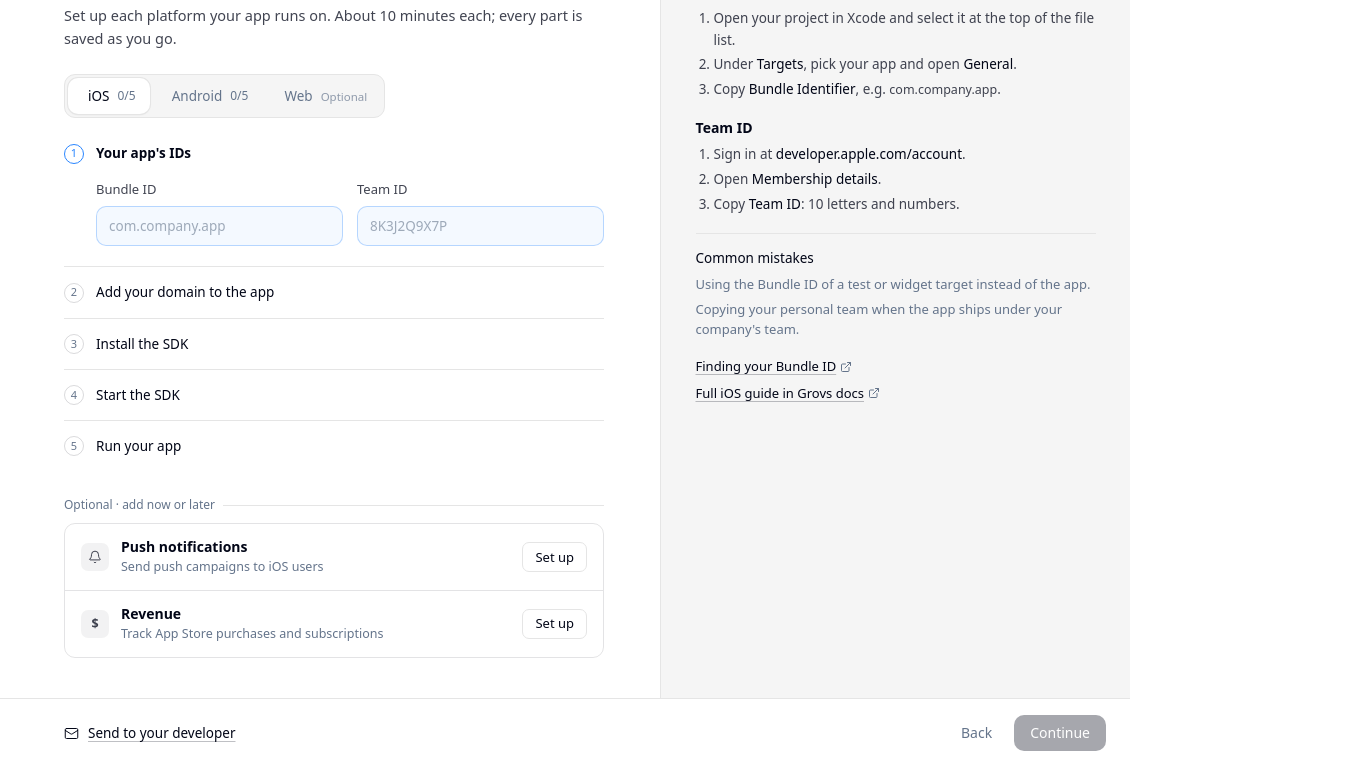
ConnectStep › skips the invite for someone already in the project
(page scrolled)
Click the button "Send to your developer" at (150, 733), box [64, 723, 236, 744]
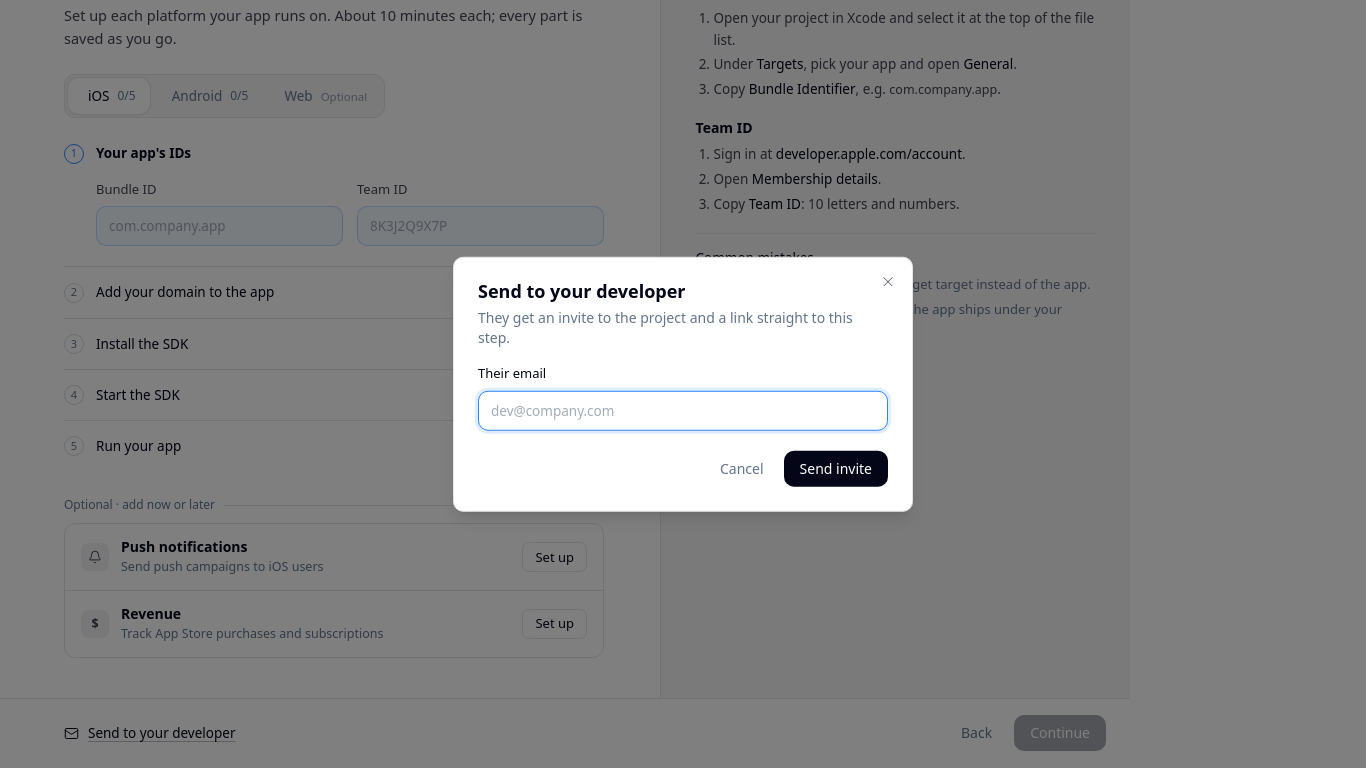
Type "Already@segments.io" into the field labelled "Their email" at (684, 410), box [491, 391, 877, 429]
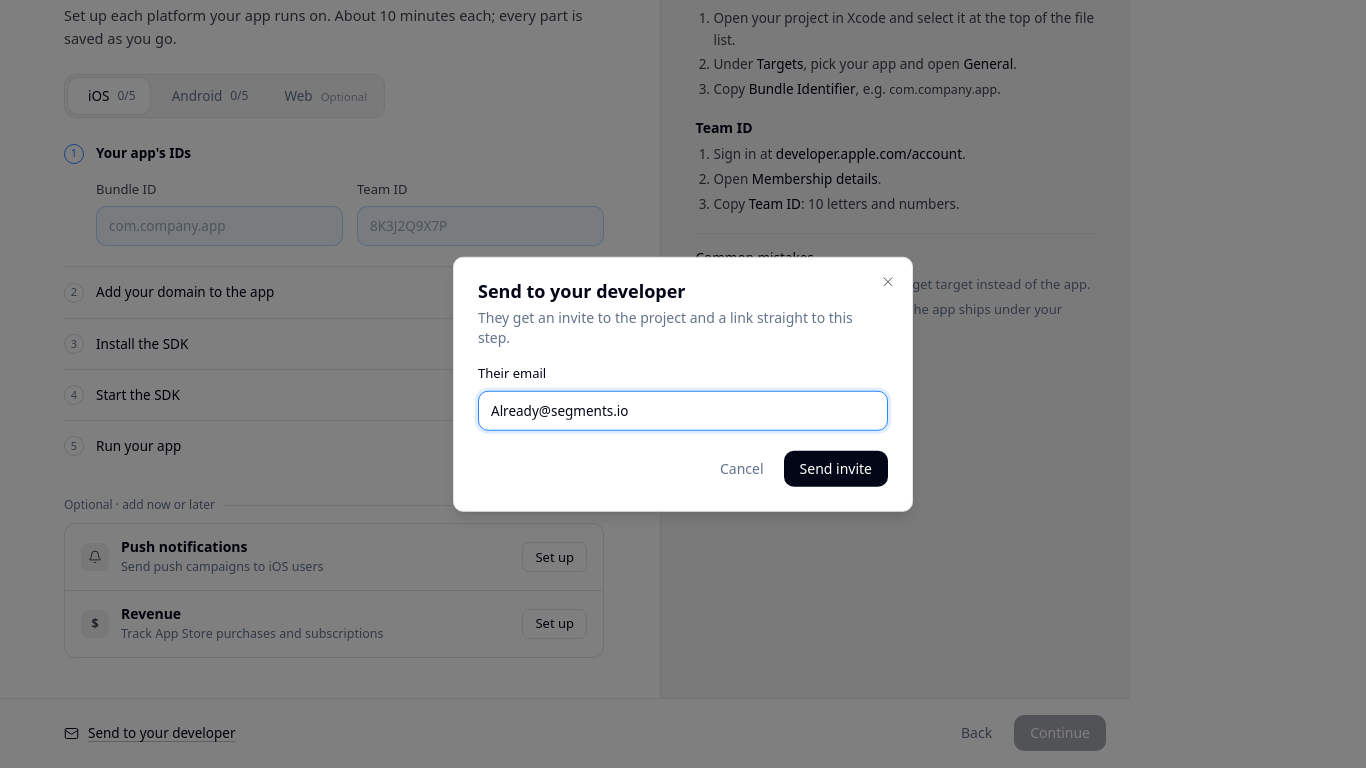
Click the button "Send invite" at (836, 468), box [784, 450, 888, 486]
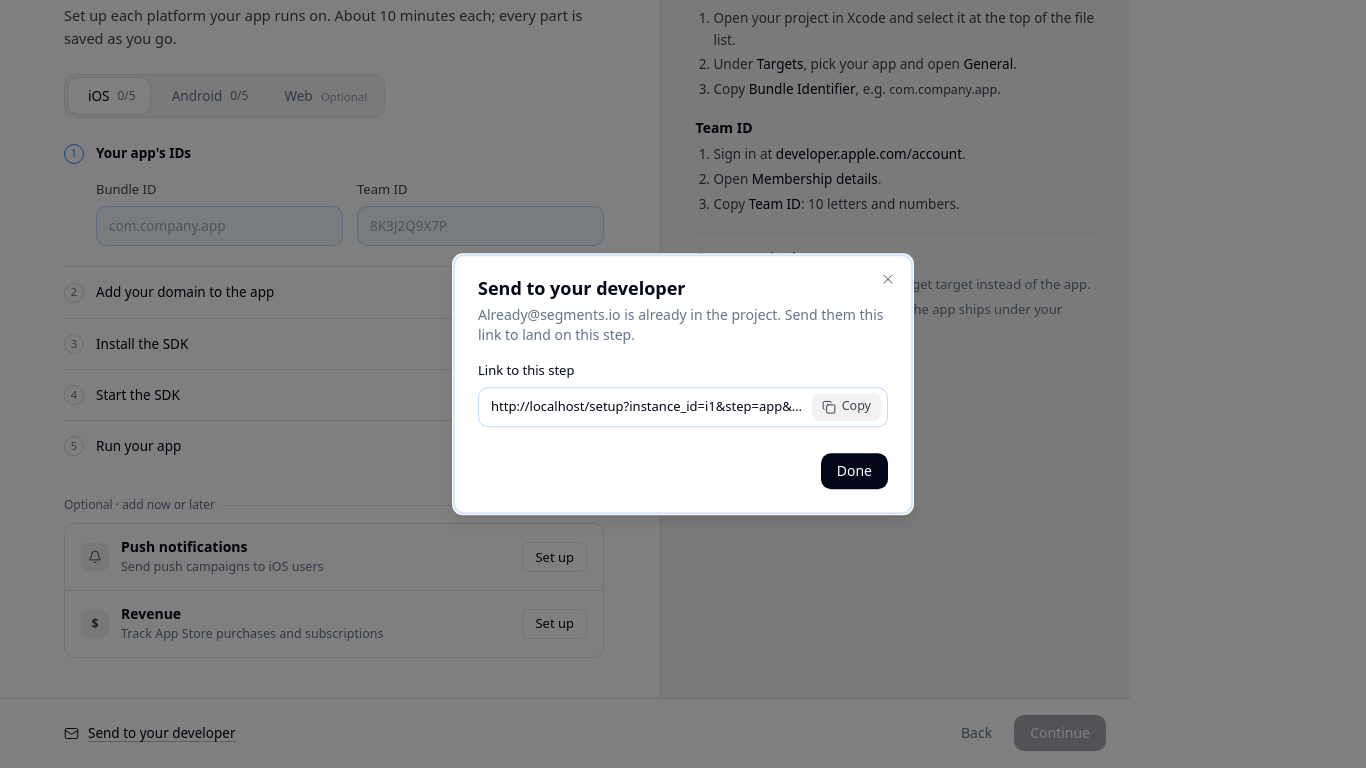
Expected: the text "is already in the project" is shown, [478, 305, 884, 344]
